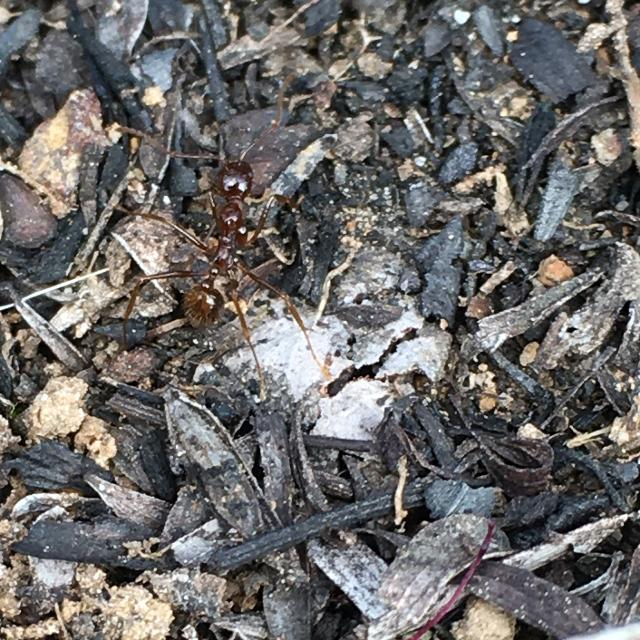Apheanogaster: (158, 125, 304, 347)
